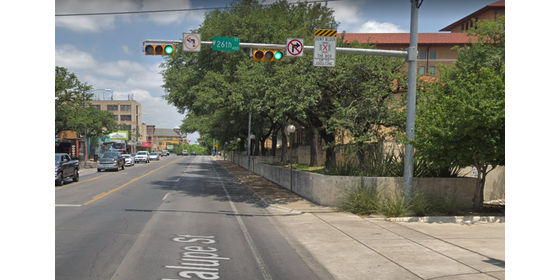dont block the box sign: (313, 26, 338, 68)
no left turn sign: (182, 32, 201, 53)
no right turn sign: (285, 36, 304, 58)
street name sign: (211, 33, 241, 53)
